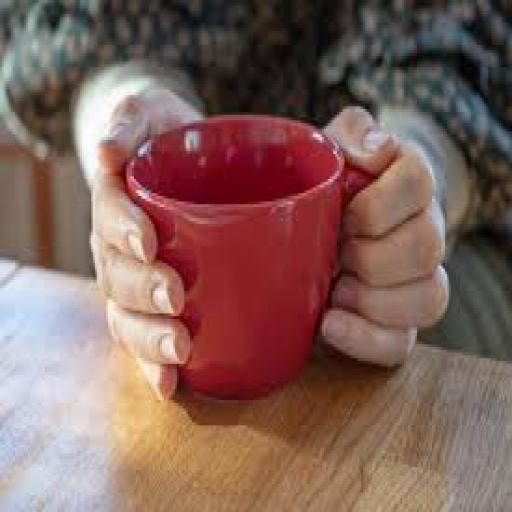red mug: (127, 115, 372, 397)
